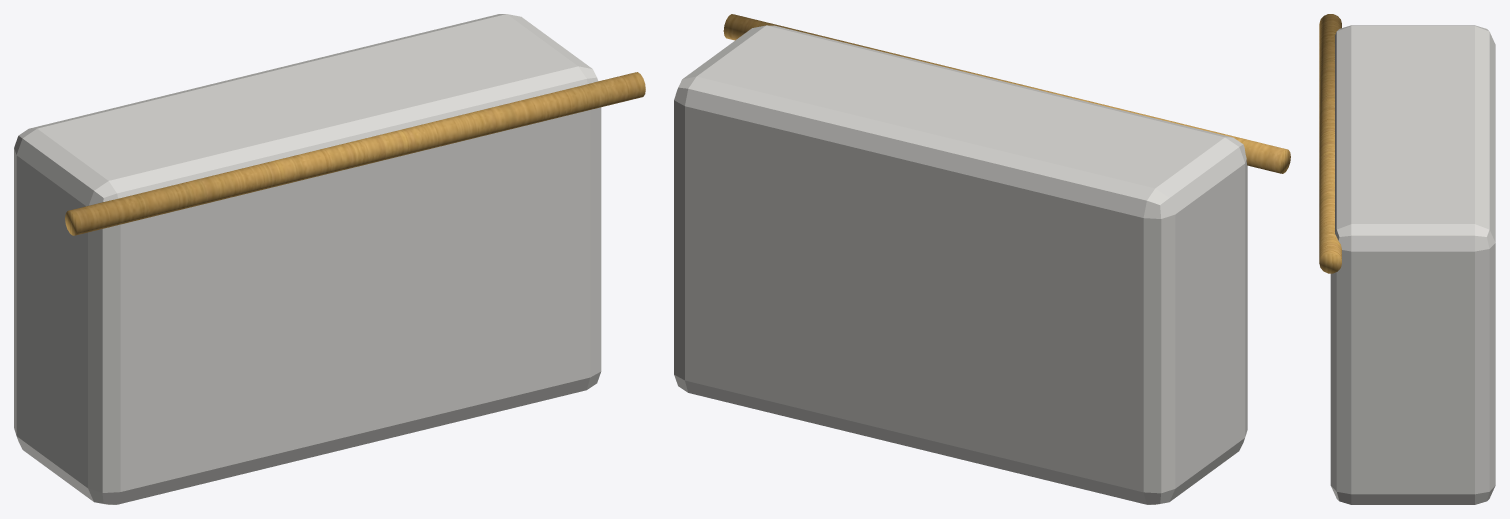
The model's file is bath2_towel.glb.
The picture shows the model from 3 angles, left to right: view 1: azimuth 30°, elevation 25°; view 2: azimuth 150°, elevation 25°; view 3: azimuth 270°, elevation 25°; orthographic projection. The views are drawn at different scales.
Parts seen in each view (by area): view 1: bath2_towel; view 2: bath2_towel; view 3: bath2_towel.
Part boxes in pixels (x1,y1,x2,y2): bath2_towel: [14, 14, 645, 504]; bath2_towel: [674, 14, 1290, 504]; bath2_towel: [1319, 14, 1495, 504].
Bounding box in the file's own units: 0.55 × 0.3 × 0.171.
Materials: 2 (1 with a texture image).
